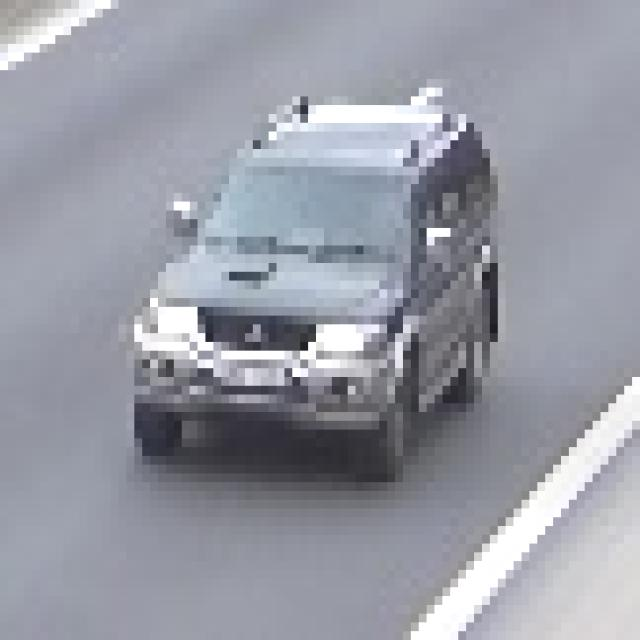SUV: (150, 112, 488, 457)
